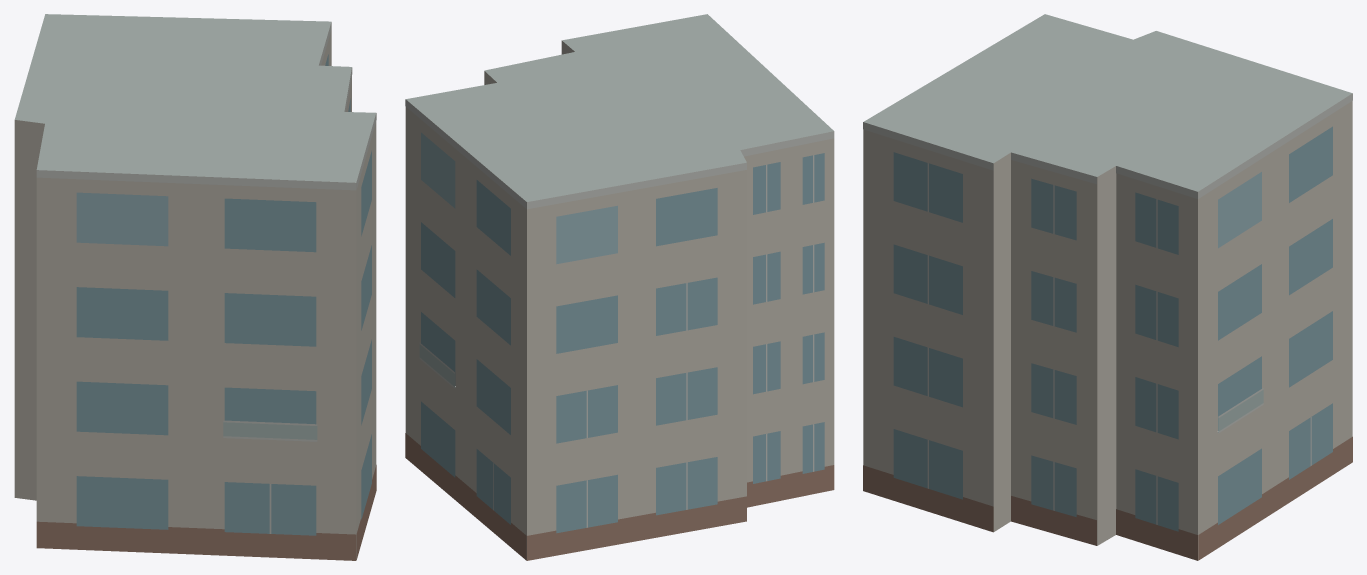
Rendered from survey-upis-32485162.glb.
3 views of the same model, side by side, from view 1: azimuth 30°, elevation 25°; view 2: azimuth 150°, elevation 25°; view 3: azimuth 270°, elevation 25° (orthographic). The views are drawn at different scales.
Visible parts, largest first — view 1: survey-upis-32485162.tmp; view 2: survey-upis-32485162.tmp; view 3: survey-upis-32485162.tmp.
Part boxes in pixels (bbox=[...]): survey-upis-32485162.tmp: bbox=[14, 14, 376, 560]; survey-upis-32485162.tmp: bbox=[405, 14, 834, 560]; survey-upis-32485162.tmp: bbox=[863, 14, 1352, 560].
Bounding box in the file's own units: 12.62 × 12.2 × 14.68.
